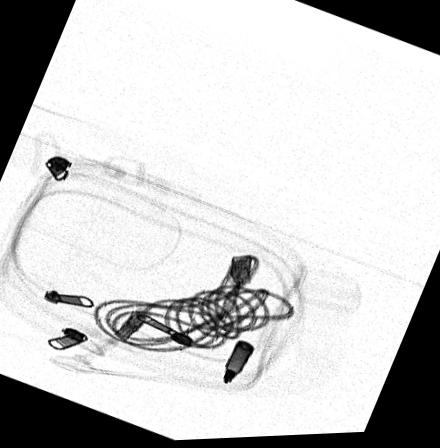Bullet: (221, 341, 255, 385)
